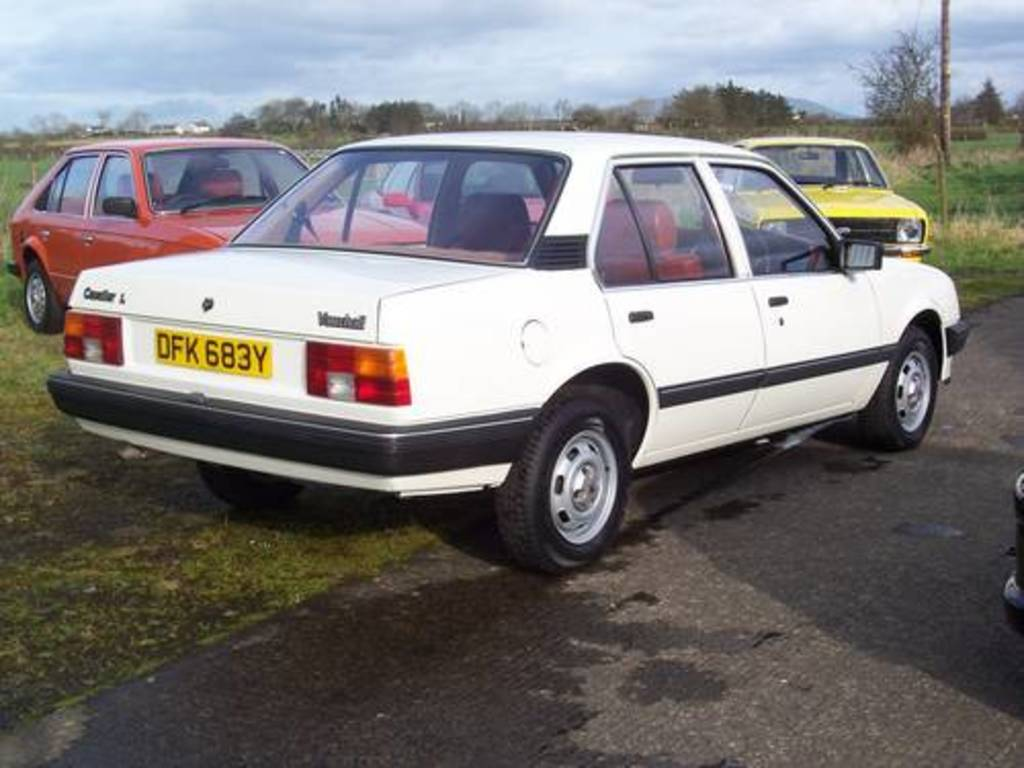car: (33, 127, 971, 605), (4, 128, 442, 325), (697, 114, 943, 269)
